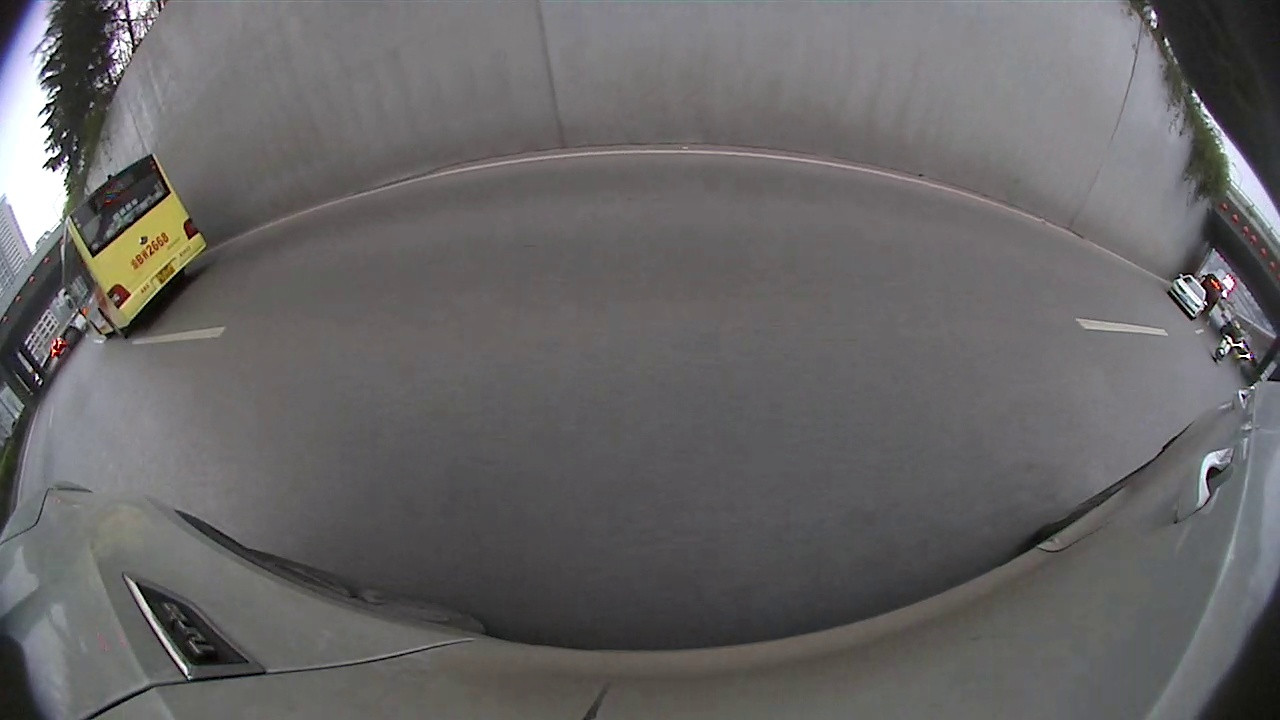bus: (801, 113, 1092, 263)
car: (72, 114, 456, 383), (765, 143, 934, 234), (480, 142, 567, 206)
front: (424, 206, 453, 251), (766, 190, 783, 209)
rear: (221, 276, 298, 365), (925, 188, 950, 231), (819, 190, 844, 227)
truck: (548, 2, 812, 221)
